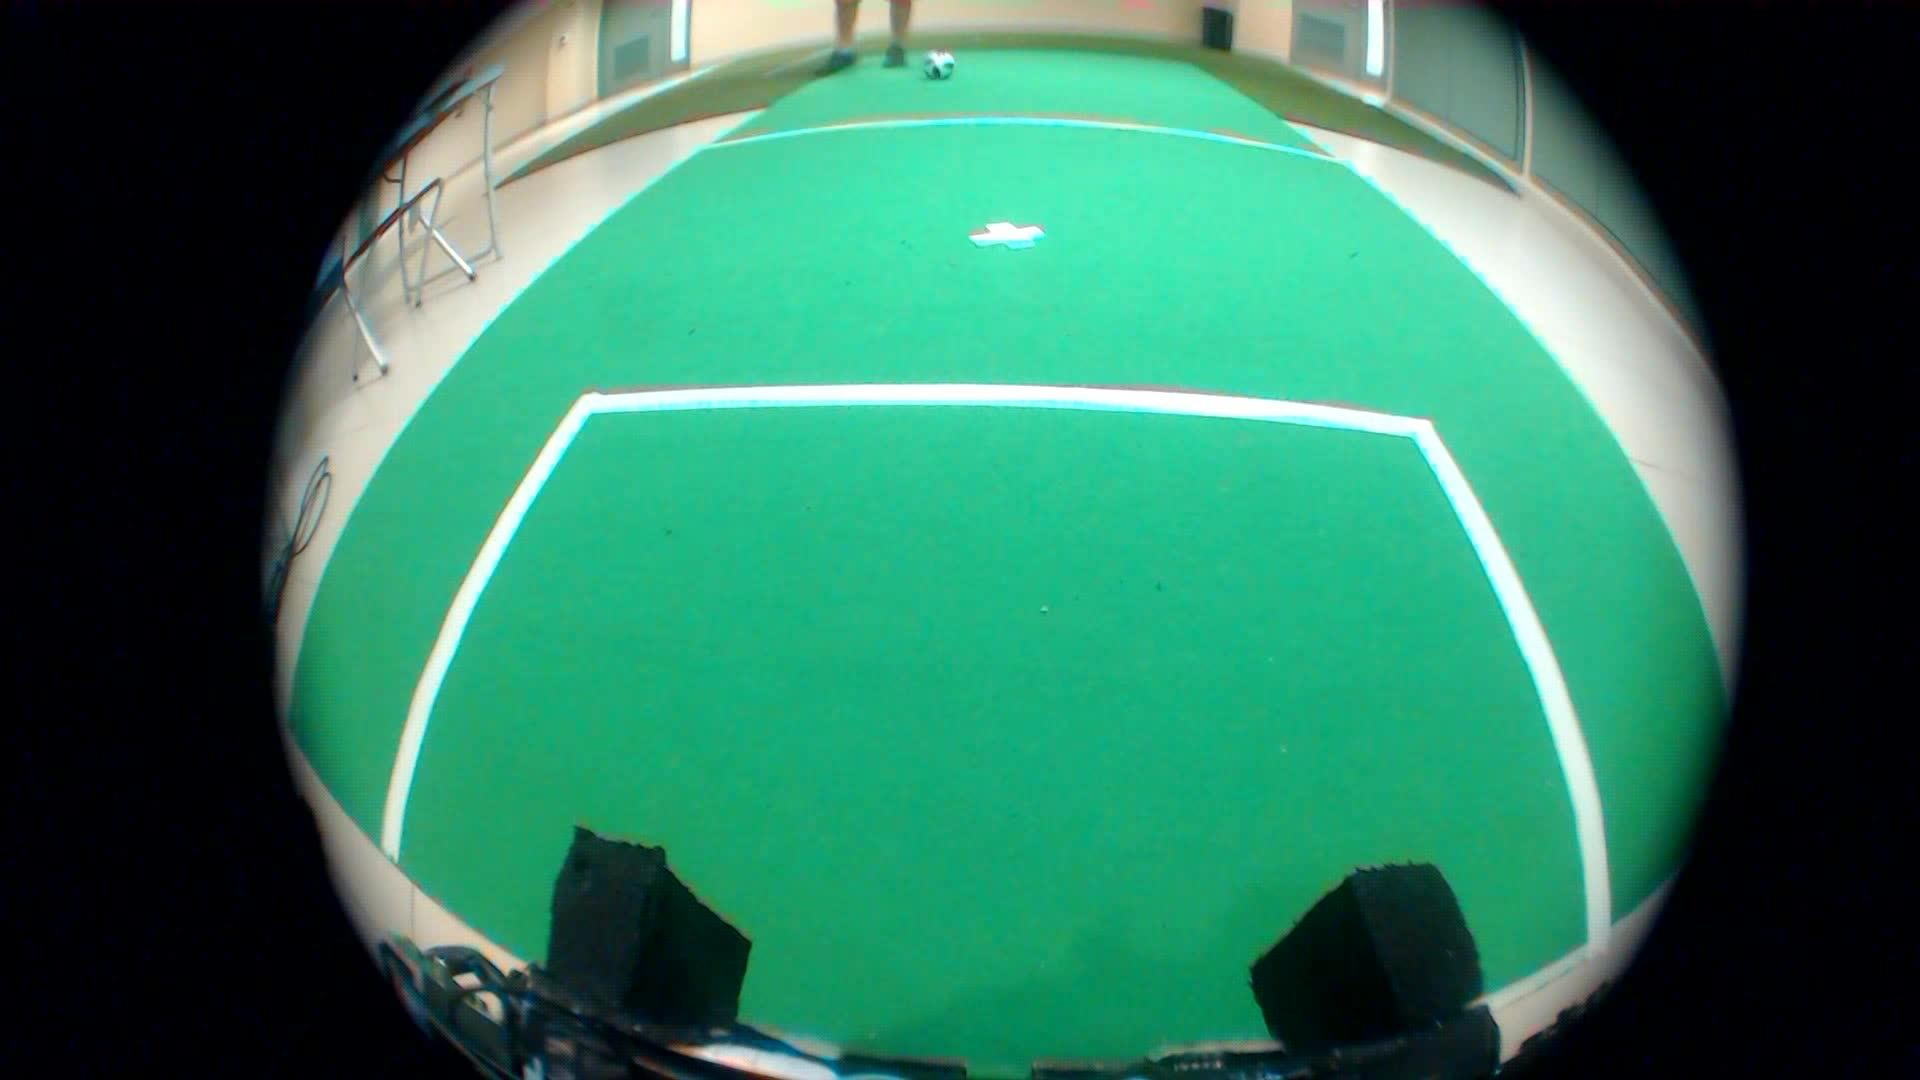ball: (913, 38, 959, 88)
